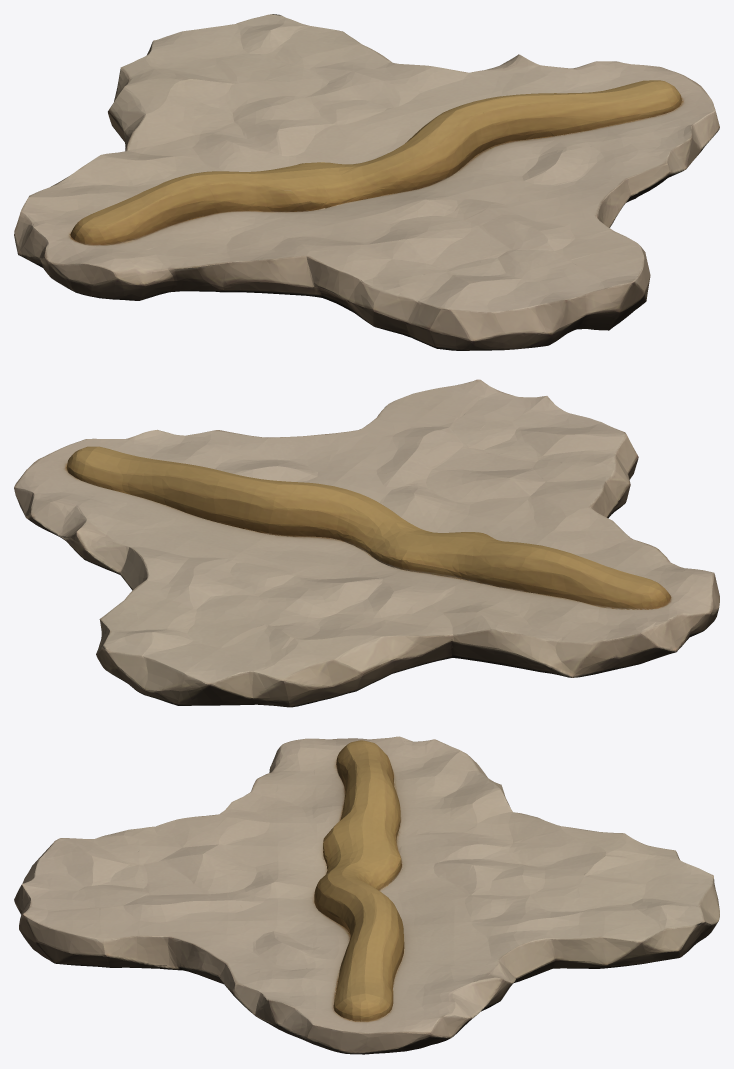
3 renders of one model, top to bottom at view 1: azimuth 30°, elevation 25°; view 2: azimuth 150°, elevation 25°; view 3: azimuth 270°, elevation 25°, orthographic. The views are drawn at different scales.
Parts seen in each view (by area): view 1: world; view 2: world; view 3: world.
Part boxes in pixels (x1=…): world: x1=14, y1=14, x2=719, y2=350; world: x1=14, y1=379, x2=719, y2=707; world: x1=14, y1=736, x2=719, y2=1054.
Bounding box in the file's own units: 1 × 0.1106 × 0.9972.
Materials: 1 (1 with a texture image).
